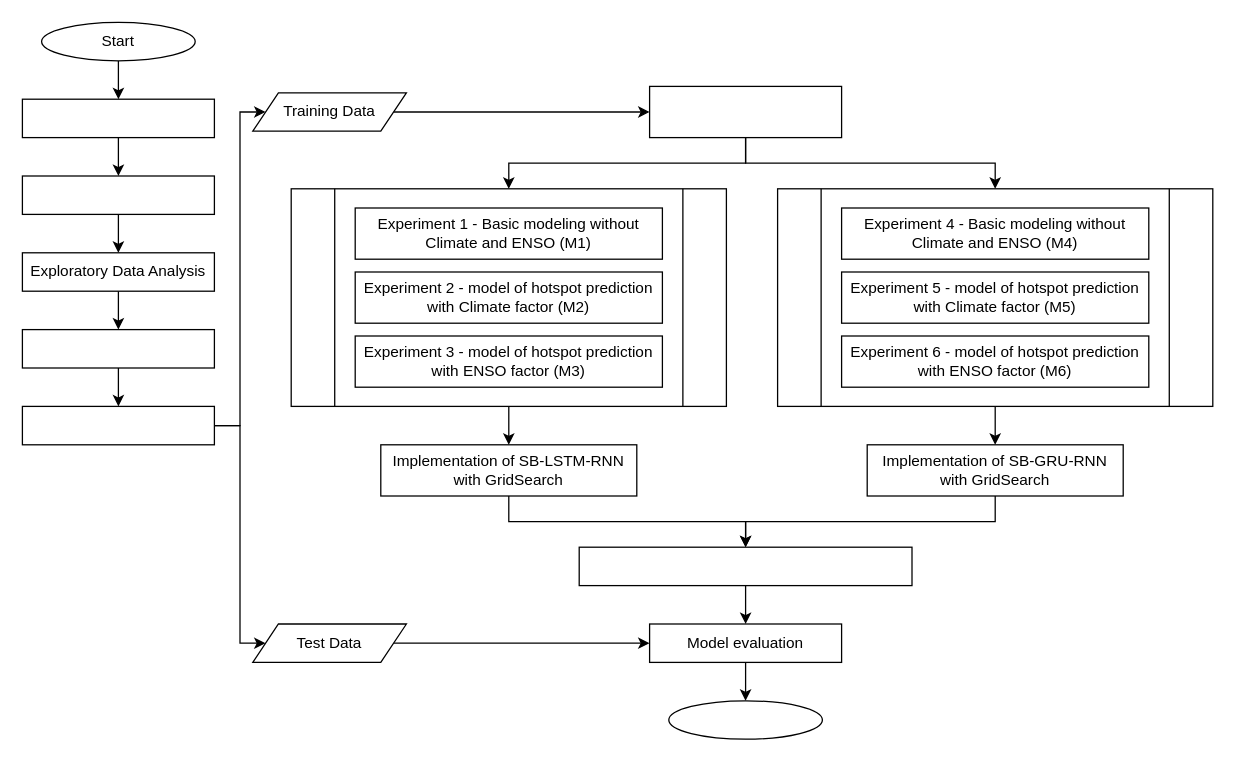
The diagram is 1235 pixels wide and 762 high, and some of its shapes have lost their labels. The shapes that lost their labels are listed below. From the top down, each one's centre as x and y in pixels, then its label:
At (x=117, y=118): "Data Collection".
At (x=745, y=111): "Setting Parameter on Hyperparameter tuning".
At (x=117, y=194): "Data PreProcessing".
At (x=117, y=348): "Time Series Analysis".
At (x=117, y=425): "Data Splitting".
At (x=745, y=566): "Best model prediction of hotspot prediction".
At (x=745, y=719): "End".
